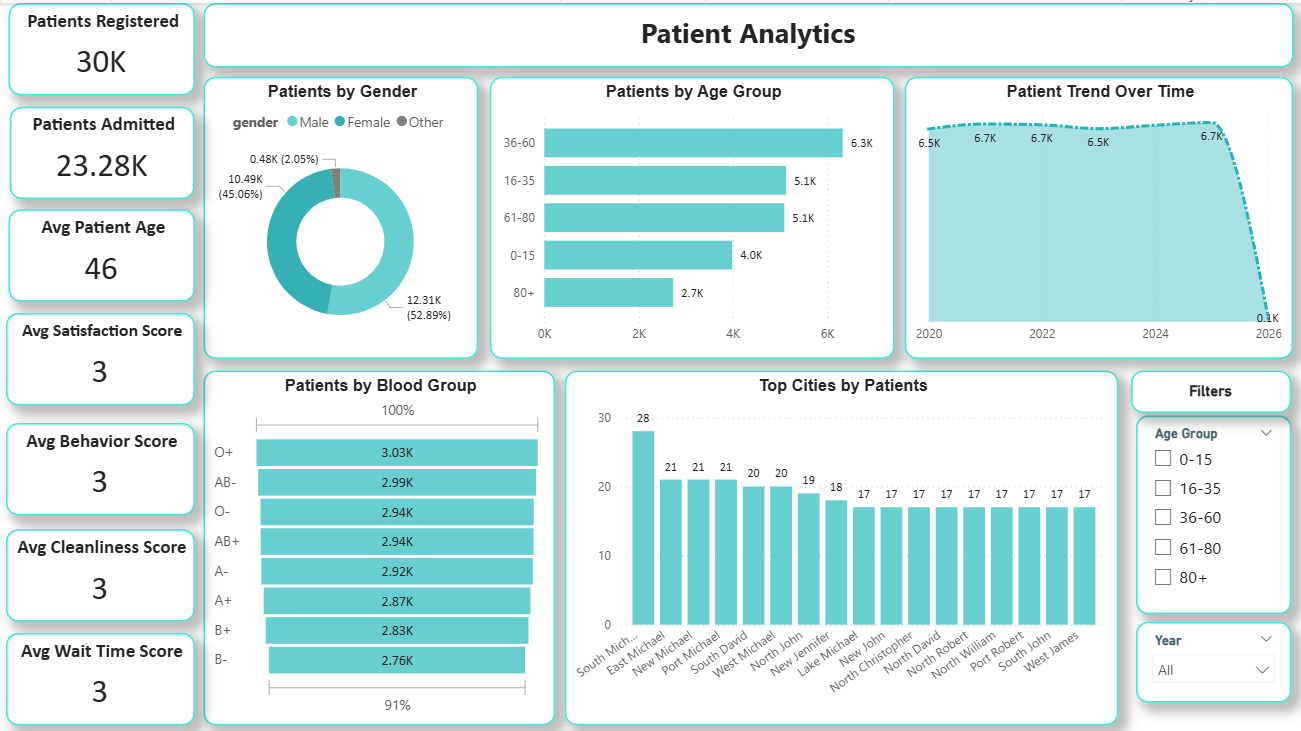

The page's visual inventory and layout, read from the dashboard file:
{"tool":"powerbi","page":{"name":"Patients","canvas":[1280,720],"ordinal":1},"visuals":[{"type":"card","title":"Patients Registered","fields":{"Values":["Patients.Total Number of Patients"]},"box":[12.2,0,182.2,90.5],"z":0},{"type":"textbox","box":[203,0,1066.3,63.6],"z":1000},{"type":"donutChart","title":"Patients by Gender","fields":{"Category":["Patients.gender"],"Y":["Billings.Total Patients per Bill"]},"box":[203,72.1,269,276.4],"z":2000},{"type":"card","title":"Patients Admitted","fields":{"Values":["Billings.Total Patients per Bill"]},"box":[13.5,101.5,181,90.5],"z":3000},{"type":"funnel","title":"Patients by Blood  Group","fields":{"Category":["Patients.blood_group"],"Y":["Billings.Total Patients per Bill"]},"box":[203,359.5,343.6,347.3],"z":4000},{"type":"card","title":"Avg Patient Age","fields":{"Values":["Patients.Average Patient Age"]},"box":[12.2,201.8,182.2,90.5],"z":5000},{"type":"card","title":"Avg Satisfaction Score","fields":{"Values":["Patient satisfaction.Average Satisfaction Score"]},"box":[9.8,303.3,184.6,90.5],"z":6000},{"type":"card","title":"Avg Behavior Score","fields":{"Values":["Patient satisfaction.Average Behavior Score"]},"box":[9.8,410.9,184.6,90.5],"z":7000},{"type":"card","title":"Avg Cleanliness Score","fields":{"Values":["Patient satisfaction.Average Cleanliness Score"]},"box":[9.8,514.8,184.6,90.5],"z":8000},{"type":"card","title":"Avg Wait Time Score","fields":{"Values":["Patient satisfaction.Average Wait Time Score"]},"box":[9.8,616.3,184.6,90.5],"z":9000},{"type":"barChart","title":"Patients by Age Group","fields":{"Category":["Patients.Age Group"],"Y":["Billings.Total Patients per Bill"]},"box":[483,72.1,396.2,276.4],"z":10000},{"type":"columnChart","title":"Top Cities by Patients","fields":{"Category":["Patients.city"],"Y":["Billings.Total Patients per Bill"]},"box":[556.4,359.5,541.7,347.3],"z":11000},{"type":"areaChart","title":"Patient Trend Over Time","fields":{"Category":["Date.year"],"Y":["Billings.Total Patients per Bill"]},"box":[889,72.1,380.3,276.4],"z":12000},{"type":"slicer","fields":{"Values":["Patients.Age Group"]},"box":[1115.2,403.5,151.6,194.4],"z":13000},{"type":"slicer","fields":{"Values":["Date.year"]},"box":[1115.2,605.3,151.6,79.5],"z":14000},{"type":"textbox","box":[1110.3,359.5,156.5,41.6],"z":15000}]}

Visuals, with their boxes in screenshot pixels (x1, y1, x2, y2), scaled from the page's 1280x720 canvas onto the 1301x731 screenshot:
"Patients Registered" card: [x1=12, y1=0, x2=198, y2=92]
textbox: [x1=206, y1=0, x2=1290, y2=65]
"Patients by Gender" donutChart: [x1=206, y1=73, x2=480, y2=354]
"Patients Admitted" card: [x1=14, y1=103, x2=198, y2=195]
"Patients by Blood  Group" funnel: [x1=206, y1=365, x2=556, y2=718]
"Avg Patient Age" card: [x1=12, y1=205, x2=198, y2=297]
"Avg Satisfaction Score" card: [x1=10, y1=308, x2=198, y2=400]
"Avg Behavior Score" card: [x1=10, y1=417, x2=198, y2=509]
"Avg Cleanliness Score" card: [x1=10, y1=523, x2=198, y2=615]
"Avg Wait Time Score" card: [x1=10, y1=626, x2=198, y2=718]
"Patients by Age Group" barChart: [x1=491, y1=73, x2=894, y2=354]
"Top Cities by Patients" columnChart: [x1=566, y1=365, x2=1116, y2=718]
"Patient Trend Over Time" areaChart: [x1=904, y1=73, x2=1290, y2=354]
slicer - Patients.Age Group: [x1=1133, y1=410, x2=1288, y2=607]
slicer - Date.year: [x1=1133, y1=615, x2=1288, y2=695]
textbox: [x1=1129, y1=365, x2=1288, y2=407]
